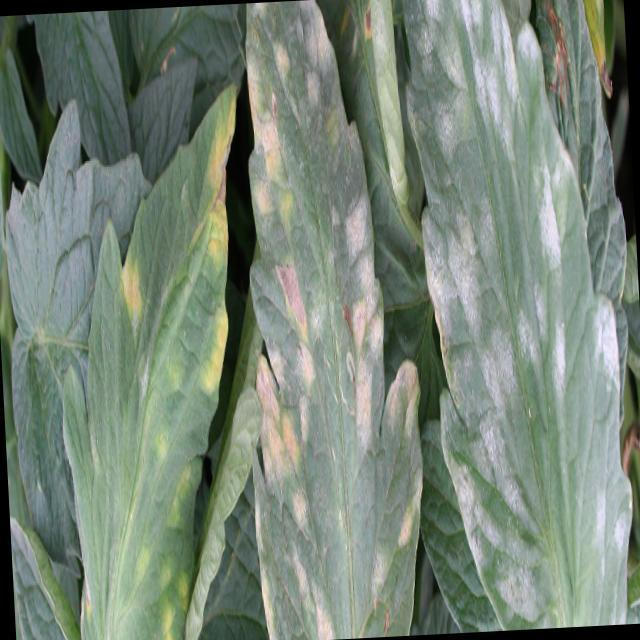Mosaic Virus: (409, 0, 631, 624), (242, 0, 425, 598), (102, 59, 260, 640)
